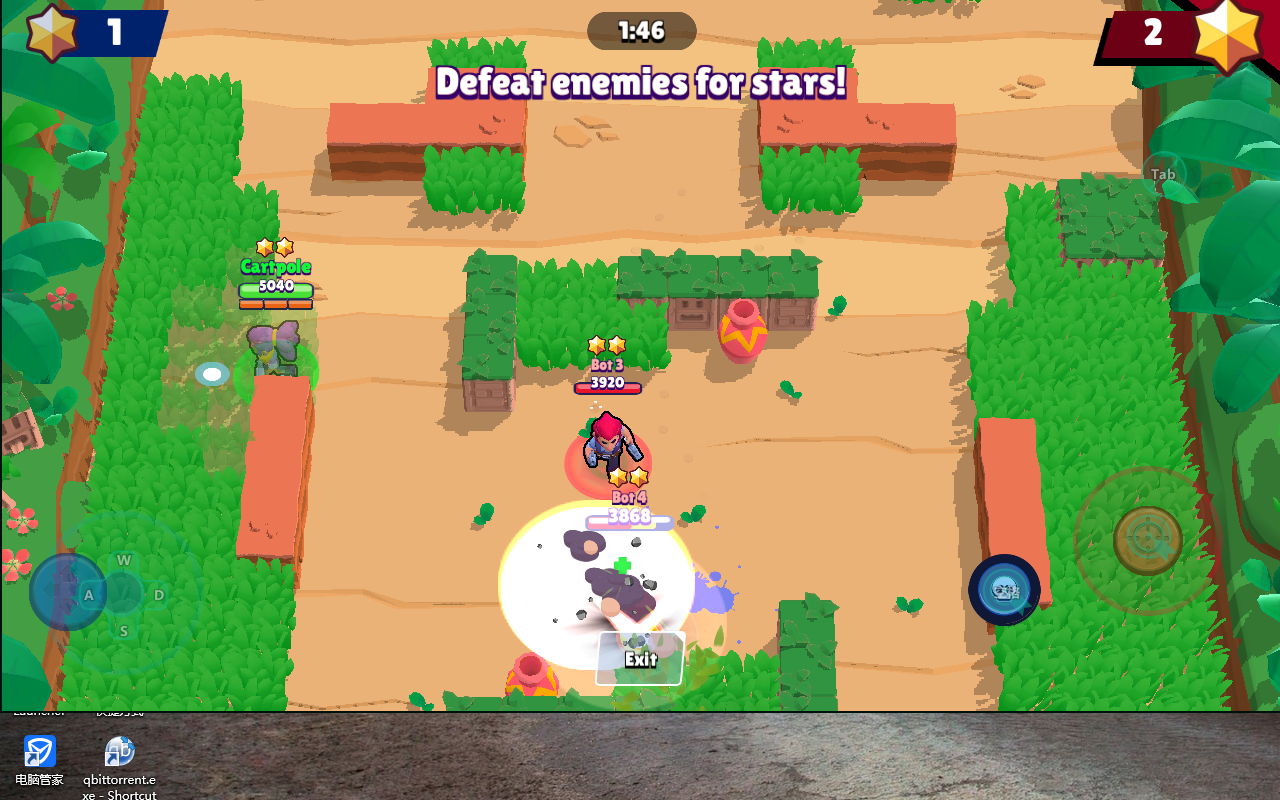current_player: (232, 340, 321, 404)
